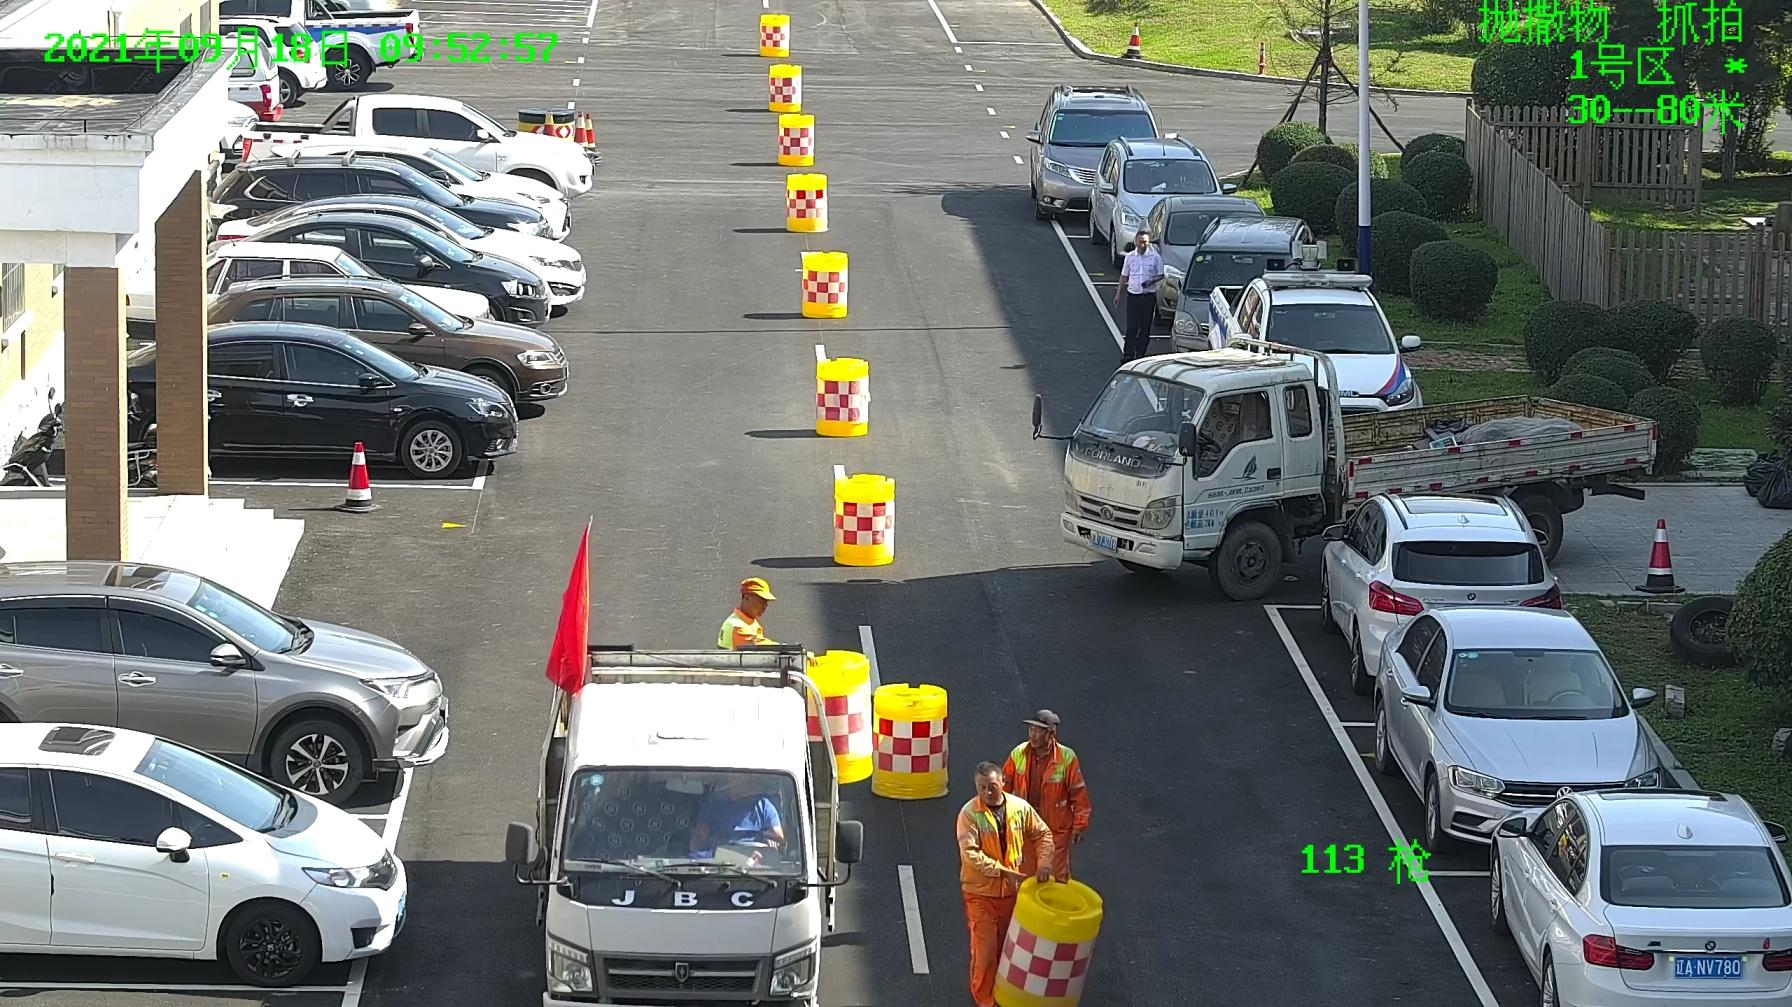cone_barrel: (991, 884, 1100, 1005), (800, 650, 869, 782), (873, 684, 946, 795), (833, 476, 894, 568), (814, 359, 869, 439), (798, 254, 846, 319), (783, 174, 825, 231), (778, 110, 817, 167), (767, 65, 802, 111), (757, 14, 789, 50)
